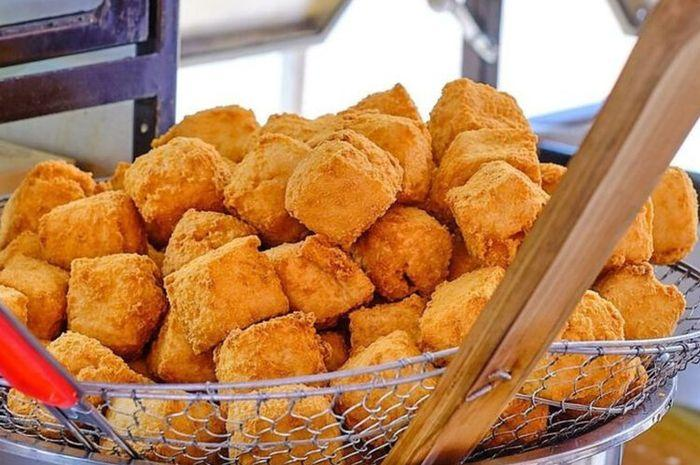kacang_legume: (459, 135, 517, 231), (183, 261, 264, 326), (80, 260, 150, 328), (306, 153, 380, 214), (234, 333, 339, 370), (130, 159, 210, 205), (240, 129, 288, 202), (367, 236, 432, 287), (299, 251, 353, 304), (57, 213, 121, 249), (614, 273, 654, 326), (12, 260, 55, 309)
